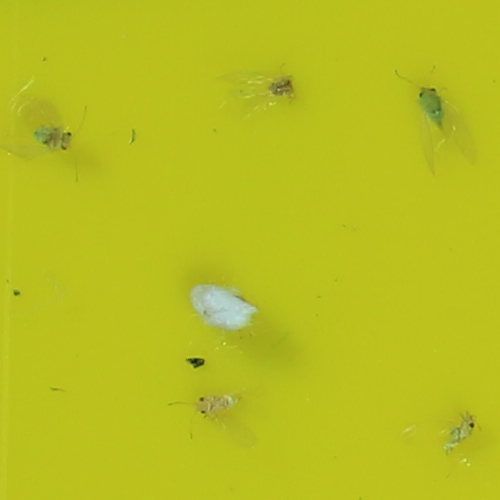Glycaspis: (442, 408, 477, 452), (418, 85, 444, 132), (33, 122, 72, 150), (196, 394, 238, 415), (268, 73, 296, 100)
